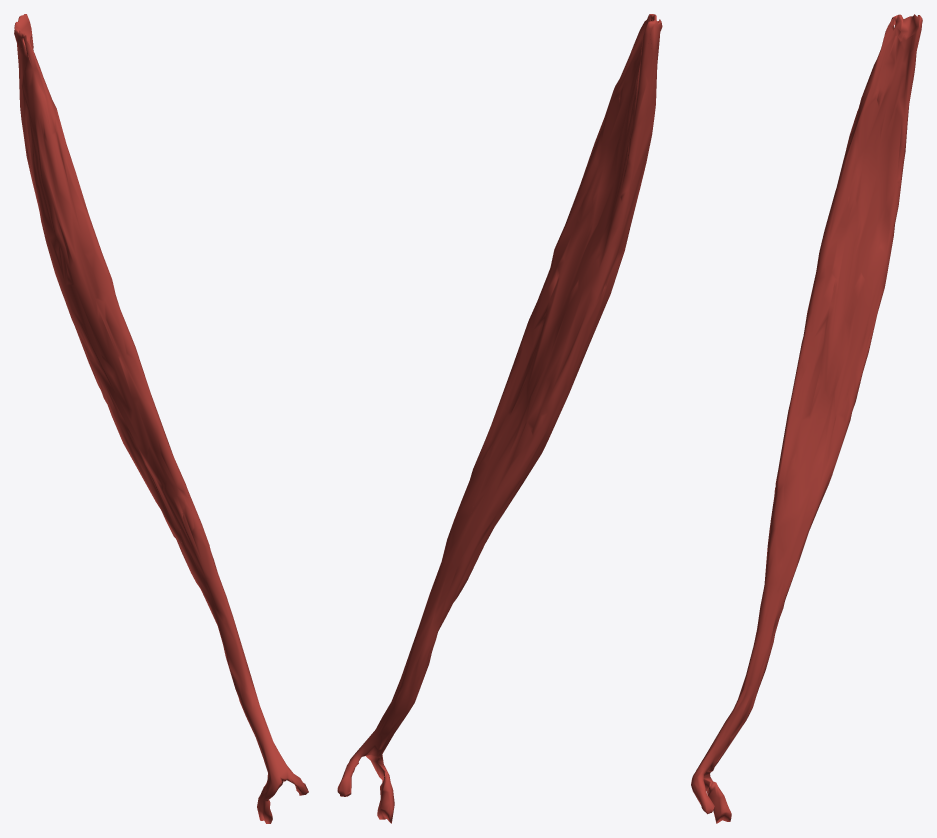
File: musculos-humeral-head-of-flexor-carpi-ulnaris-l.glb
3 views of the same model, side by side, from view 1: azimuth 30°, elevation 25°; view 2: azimuth 210°, elevation 25°; view 3: azimuth 270°, elevation 25° (orthographic). The views are drawn at different scales.
Parts seen in each view (by area): view 1: Humeral head of flexor carpi ulnaris.l; view 2: Humeral head of flexor carpi ulnaris.l; view 3: Humeral head of flexor carpi ulnaris.l.
Boxes of the visible parts, x1,y1,x2,y2 form: Humeral head of flexor carpi ulnaris.l: (14,14,308,823); Humeral head of flexor carpi ulnaris.l: (337,14,662,823); Humeral head of flexor carpi ulnaris.l: (691,14,922,823).
Size of the model in its own units: 0.071 by 0.2753 by 0.0781.
